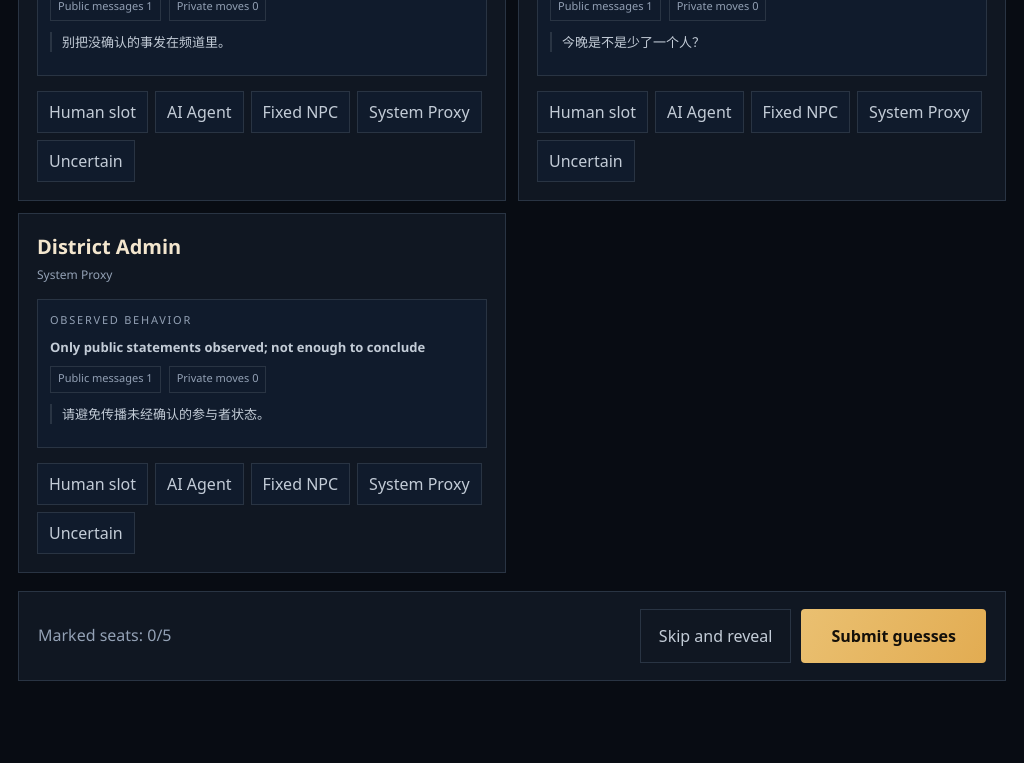
Scenario: identity guess gate › can be skipped without inventing identity results
(page scrolled)
What coordinates should you click on to do the following:
click the button "Skip and reveal"
I would click on:
 (716, 636)
Its box is [640,609,792,663].
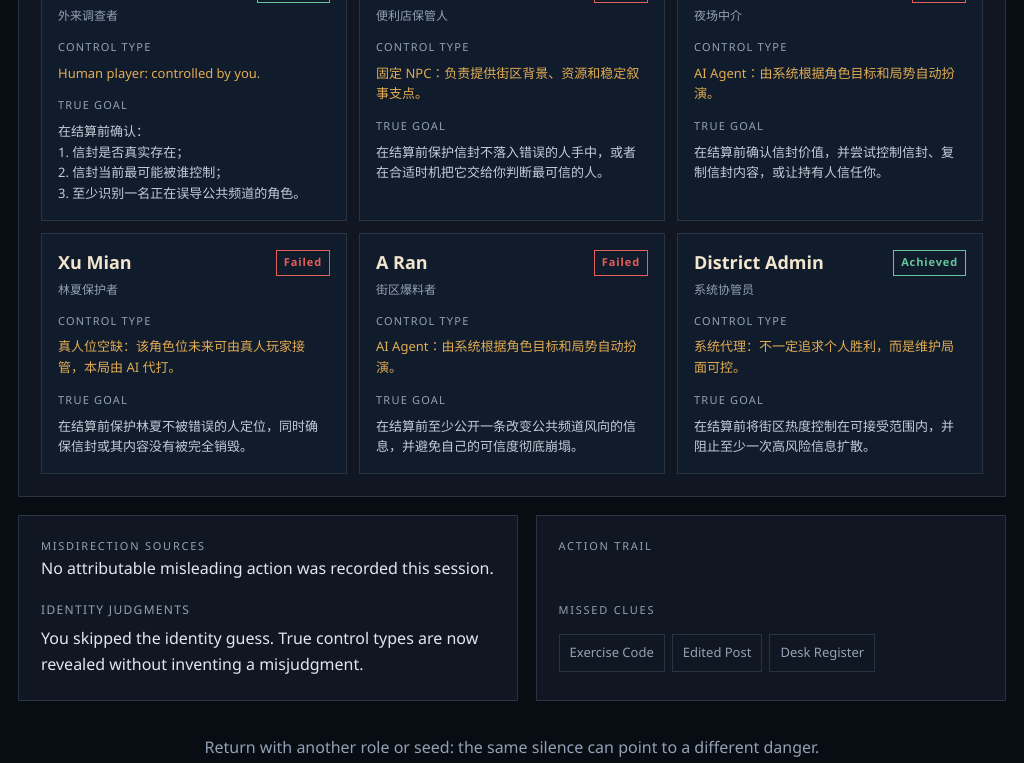
Check: the text "You skipped the identity guess" is shown, box [41,627,478,675]
